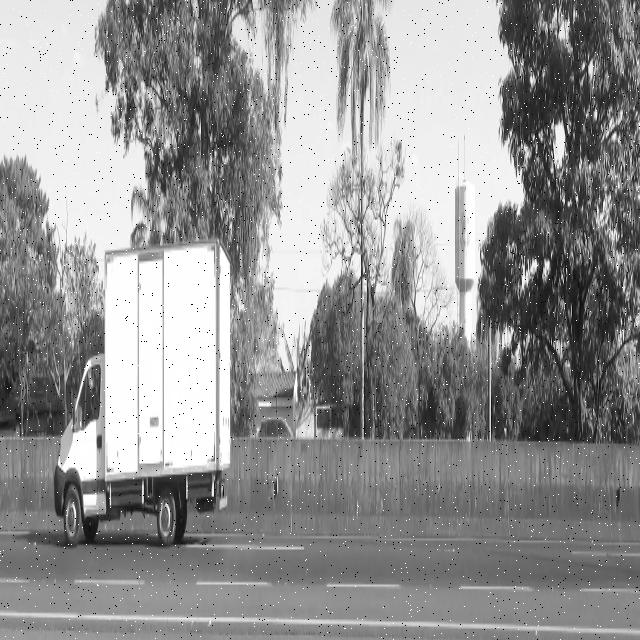-axle: (157, 484, 177, 548), (62, 482, 81, 547)
